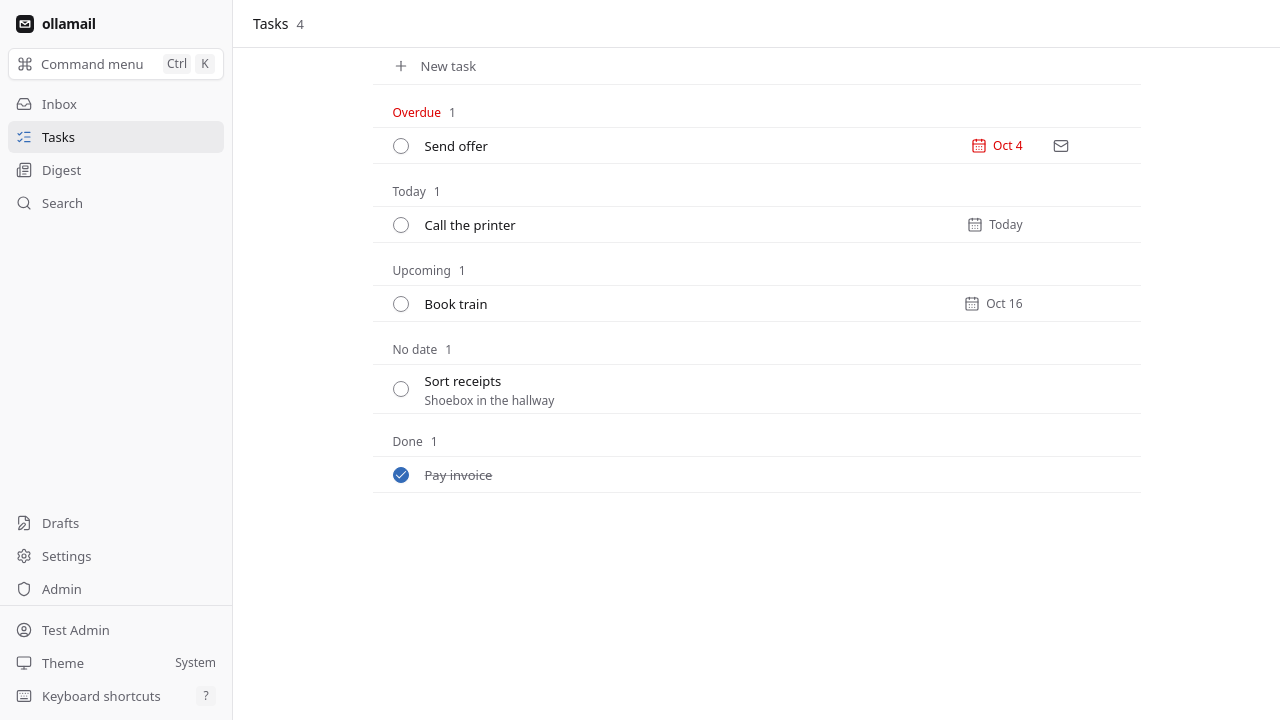
Test: tasks page › rolls the change back when the server rejects it
The width and height of the screenshot is (1280, 720).
Expected: the heading "Tasks" is shown, [253,14,288,34]
Click the checkbox named "Mark “Book train” as done": [400, 304] box [392,296,408,312]
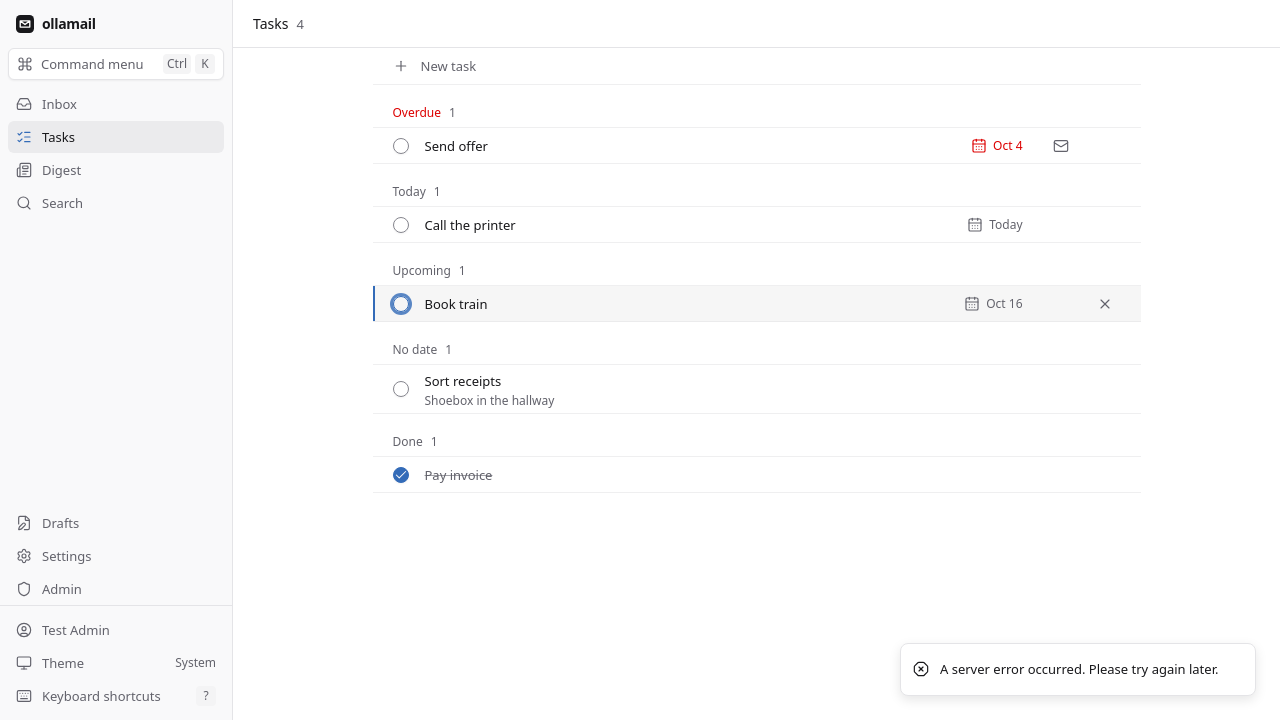
Result: the text "A server error occurred. Please try again later." is shown at [940,660,1218,679]
